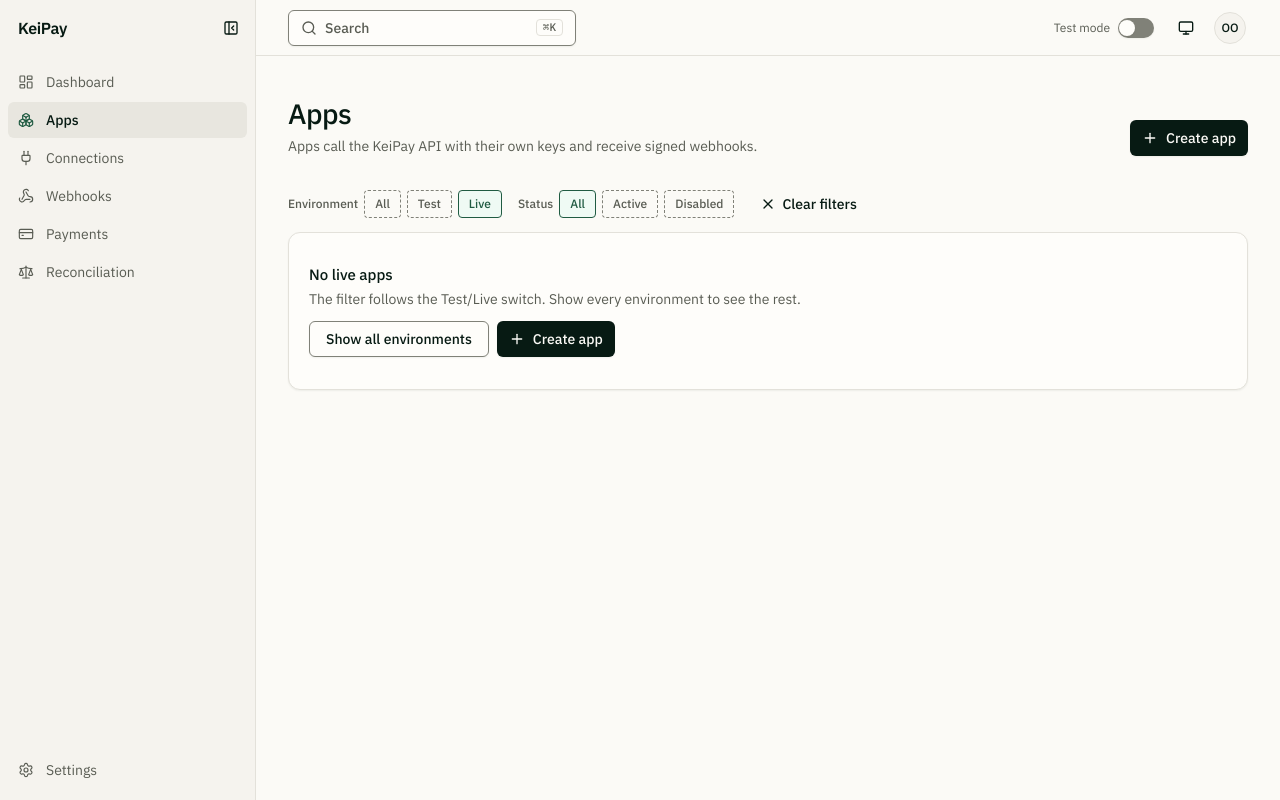
it: Apps page › shows the environment empty state, which can show every environment
Check: the element with test id "empty-state" shows "No live apps", box [309,265,393,284]
Check: the button "Create app" below "No live apps" is shown, box [497,321,615,357]
Click the button "Show all environments". click: (399, 339)
box: [309,321,489,357]
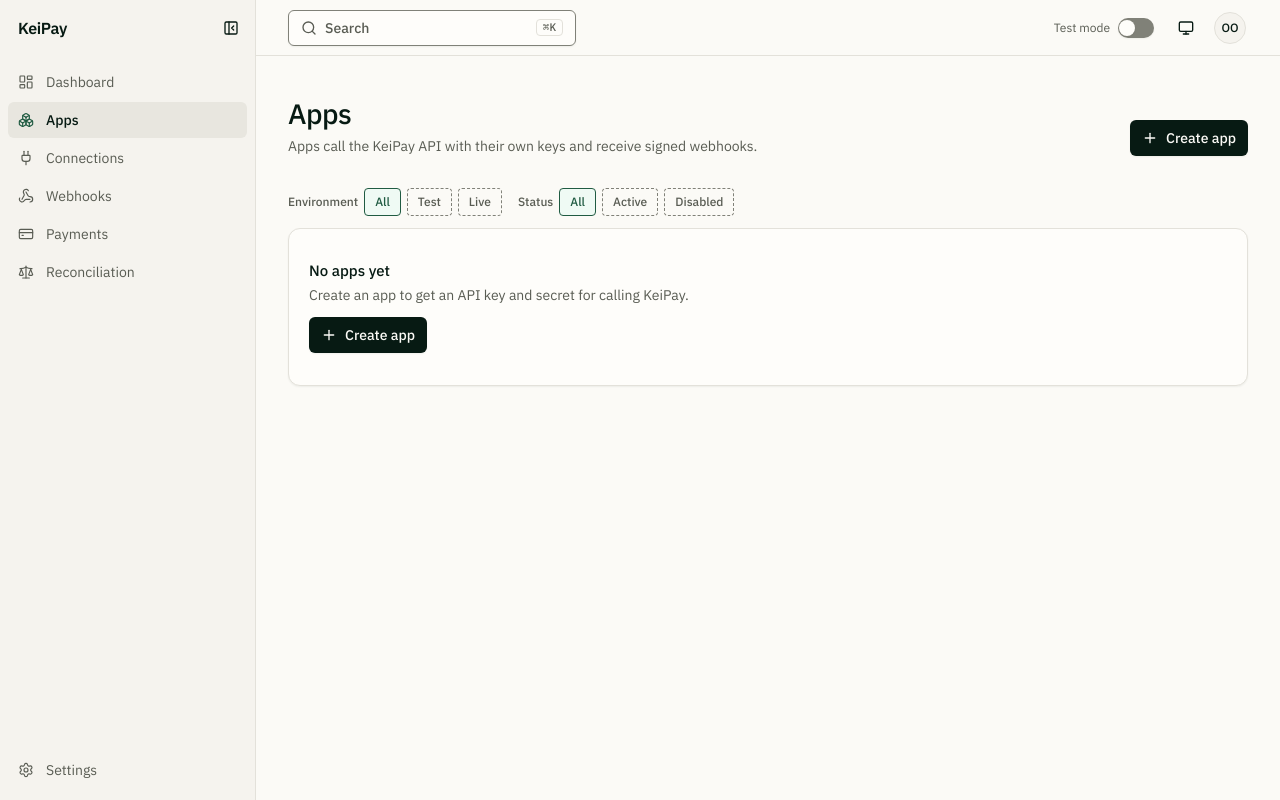
Check: the button "Create app" below "No apps yet" is shown, box [309,317,427,353]
Check: the heading "No apps yet" is shown, box [309,261,390,280]
